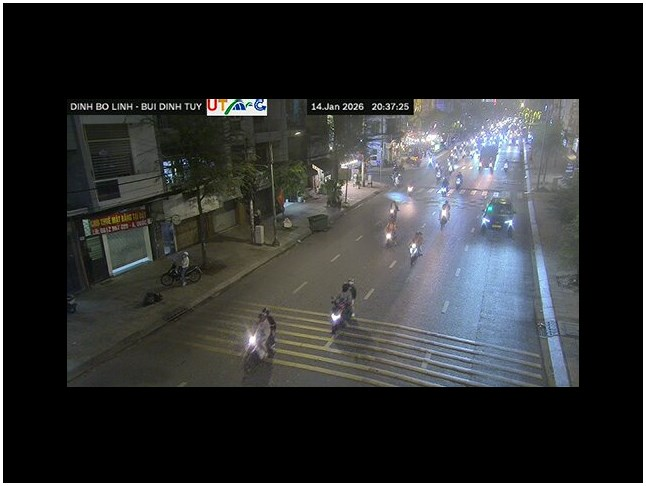car: (480, 201, 516, 232)
motorbike: (160, 259, 191, 288)
